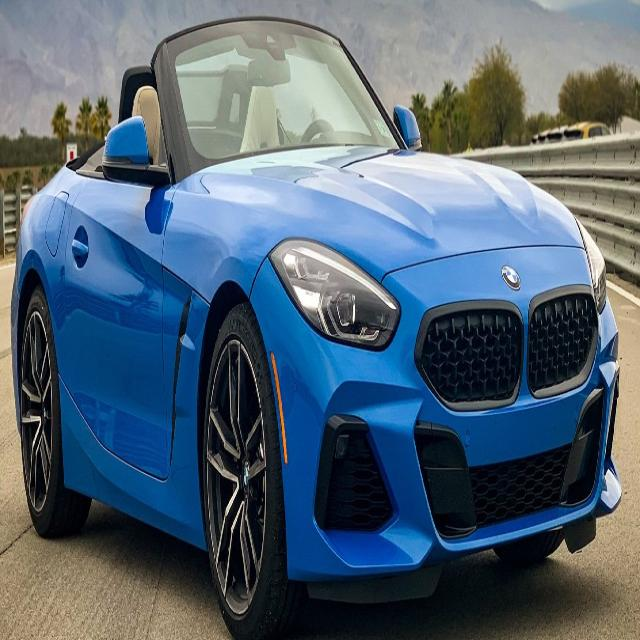blue: (11, 16, 626, 622)
